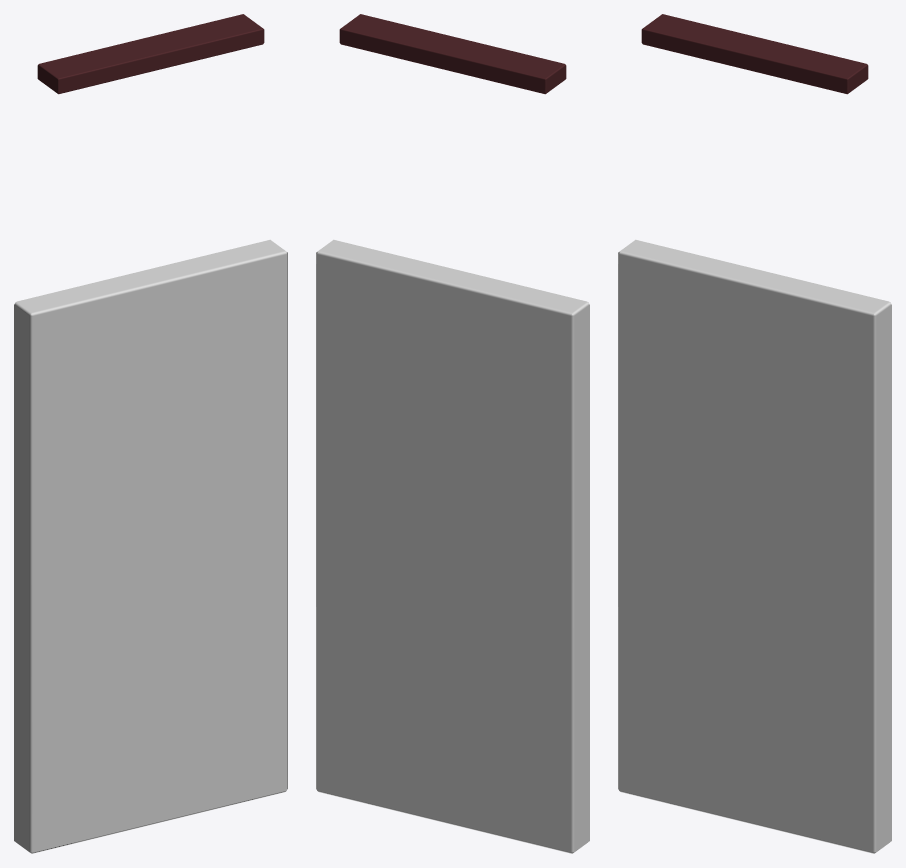
File: living-cave-window-sill.0e3ec860.glb
The picture shows the model from 3 angles, left to right: view 1: azimuth 30°, elevation 25°; view 2: azimuth 150°, elevation 25°; view 3: azimuth 330°, elevation 25°; orthographic projection.
Parts seen in each view (by area): view 1: body; view 2: body; view 3: body.
Part boxes in pixels (box(x1,y1,x2,y2)): body: box(14, 14, 287, 853); body: box(316, 14, 589, 853); body: box(618, 14, 891, 853).
Size of the model in its own units: 1 by 2.85 by 0.14.
